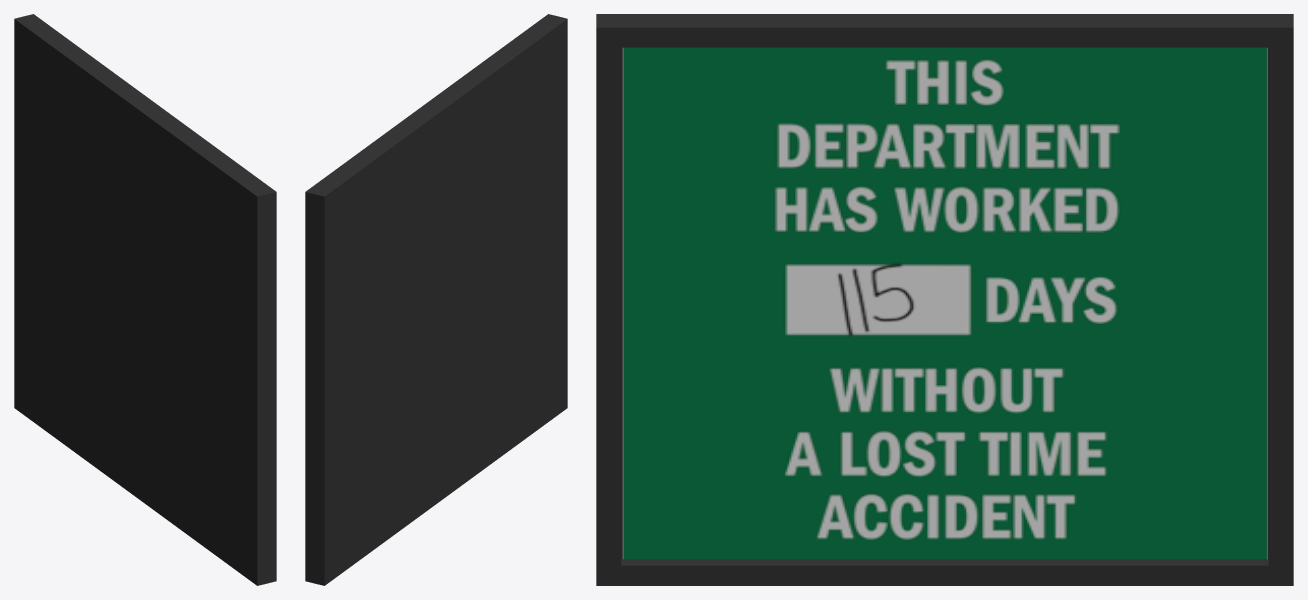
File: Accident Sign.fbx
3 views of the same model, side by side, from view 1: azimuth 30°, elevation 25°; view 2: azimuth 150°, elevation 25°; view 3: azimuth 270°, elevation 25° (orthographic). The views are drawn at different scales.
Visible parts, largest first — view 1: Accident Sign; view 2: Accident Sign; view 3: Accident Sign.
Boxes of the visible parts, <box> form: Accident Sign: <box>14,14,276,585</box>; Accident Sign: <box>305,14,567,585</box>; Accident Sign: <box>596,14,1293,585</box>.
Size of the model in its own units: 17.13 by 328 by 372.
